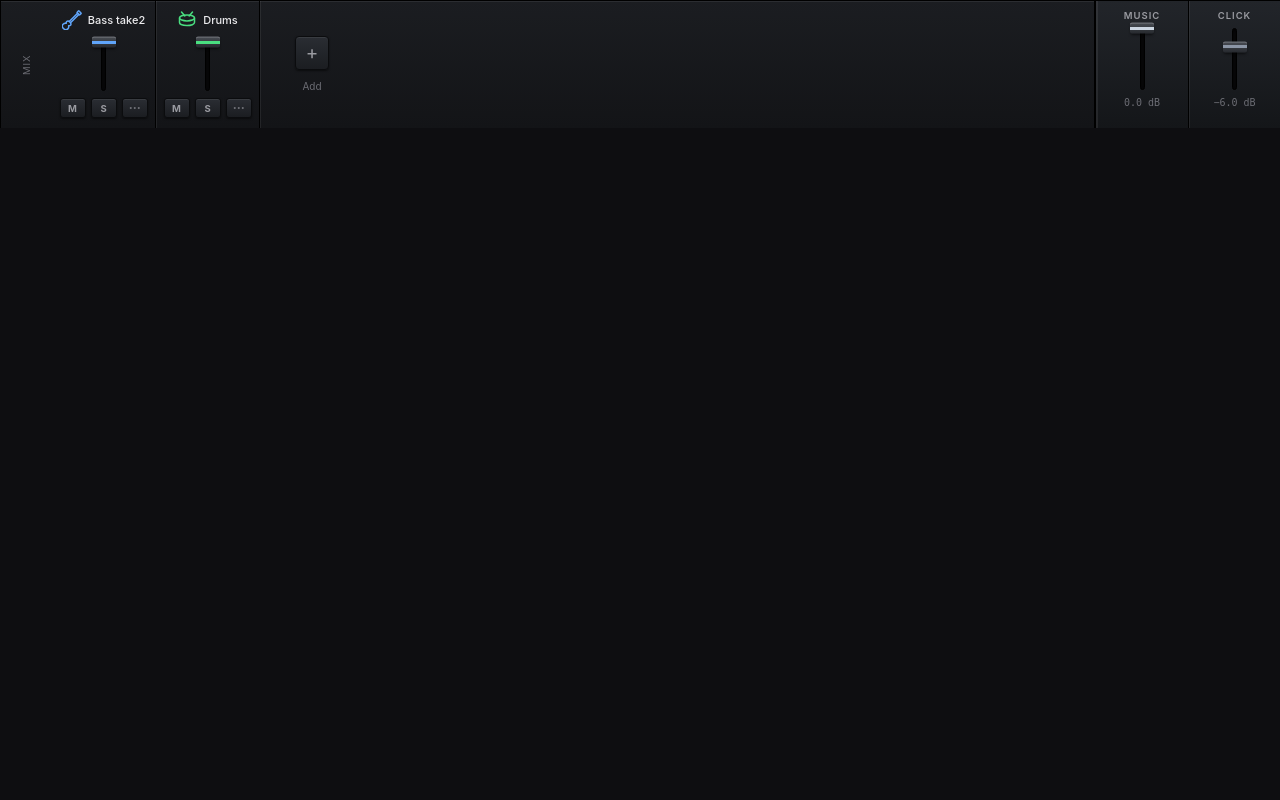
the channel menu › asks before deleting, and says what goes with it
Click the button "⋯" below "Bass take2". click: (134, 108)
box: top-left (122, 98), bottom-right (148, 118)
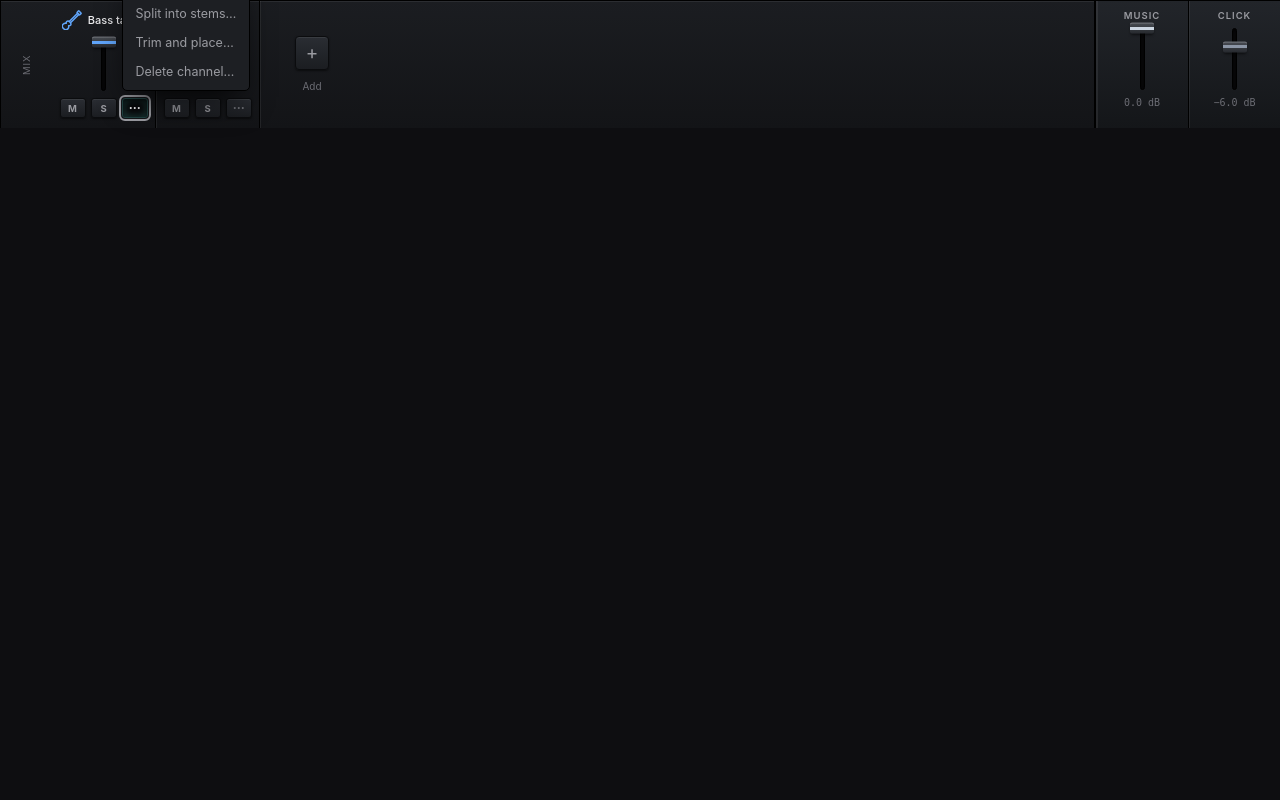
Click the menu item "Delete channel…". click: (186, 72)
box: top-left (126, 57), bottom-right (245, 86)
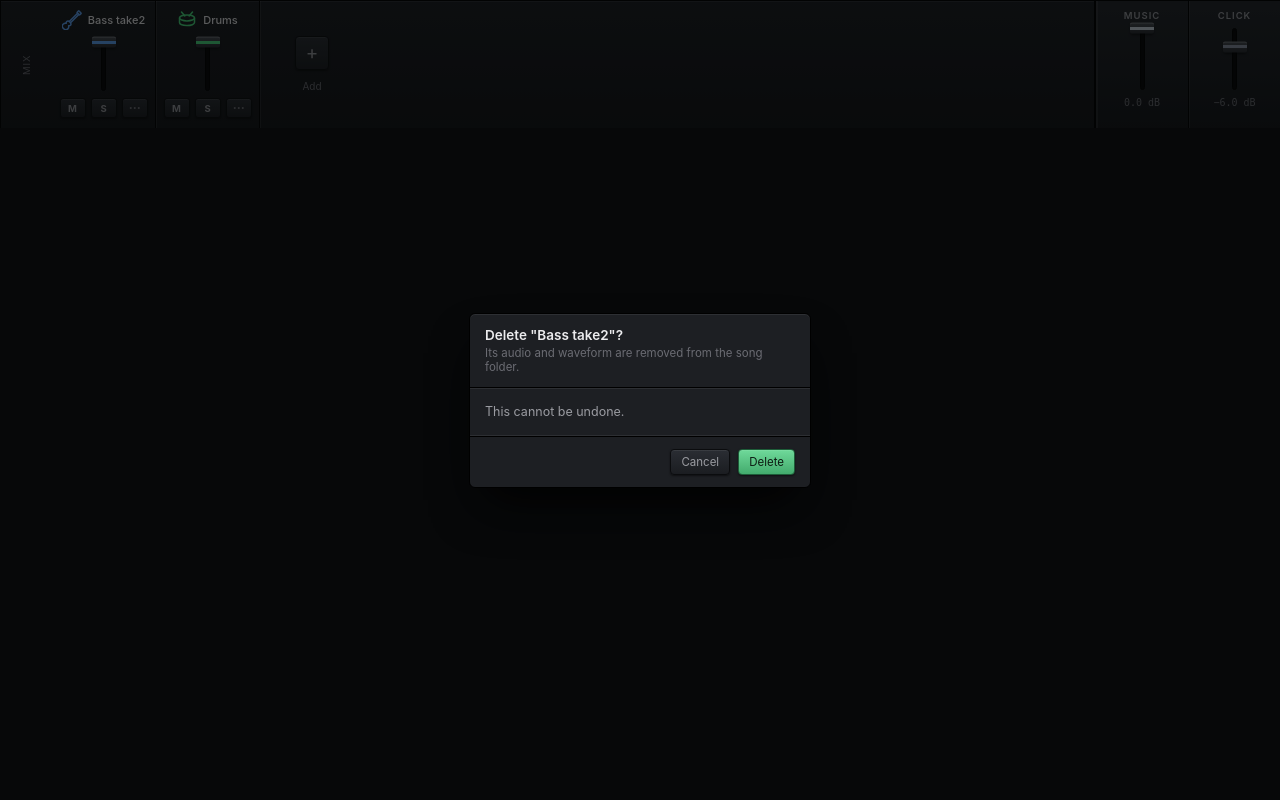
Check: the dialog "Delete \"Bass take2\"" is shown, box top-left (469, 312), bottom-right (811, 488)
Check: the text "Its audio and waveform are removed from the song folder." is shown, box top-left (485, 346), bottom-right (795, 374)
